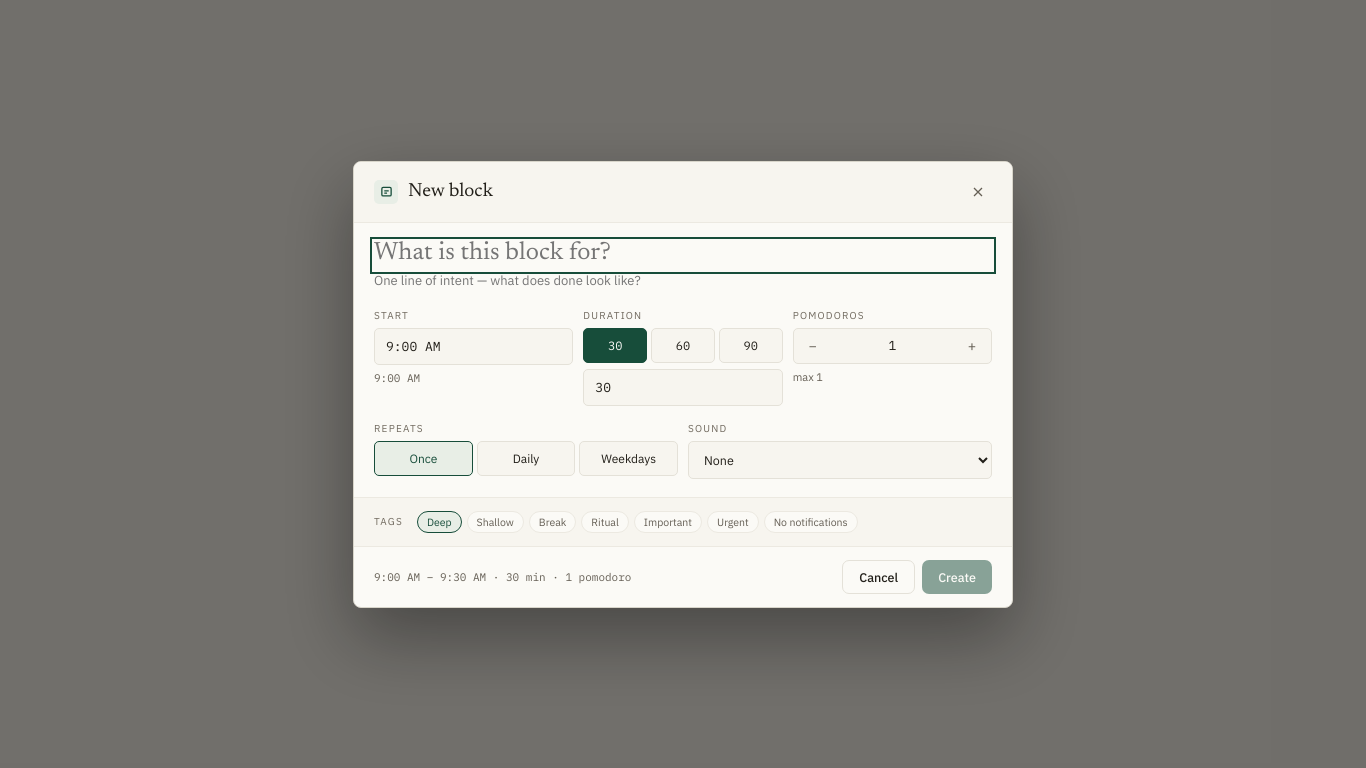
BlockComposer flows › duration validation (Phase 11 P2 field/draft/save agreement) › typing "5" on deep then switching to Shallow: the field is normalized to "30"
The width and height of the screenshot is (1366, 768).
Replace the text in the field with placeholder "90" below "Duration" with "5": (683, 387) [583,368,783,406]
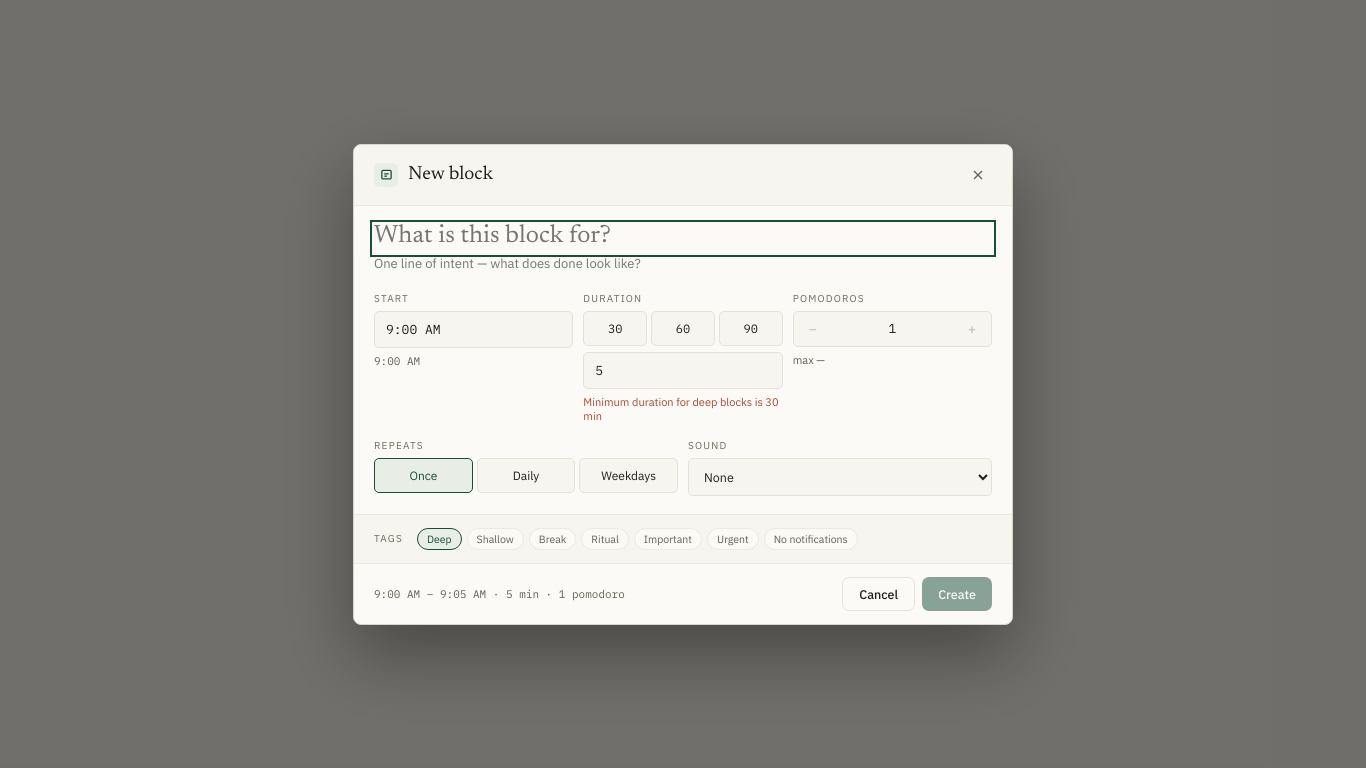
Click the button "Shallow": (495, 538) [467,528,524,550]
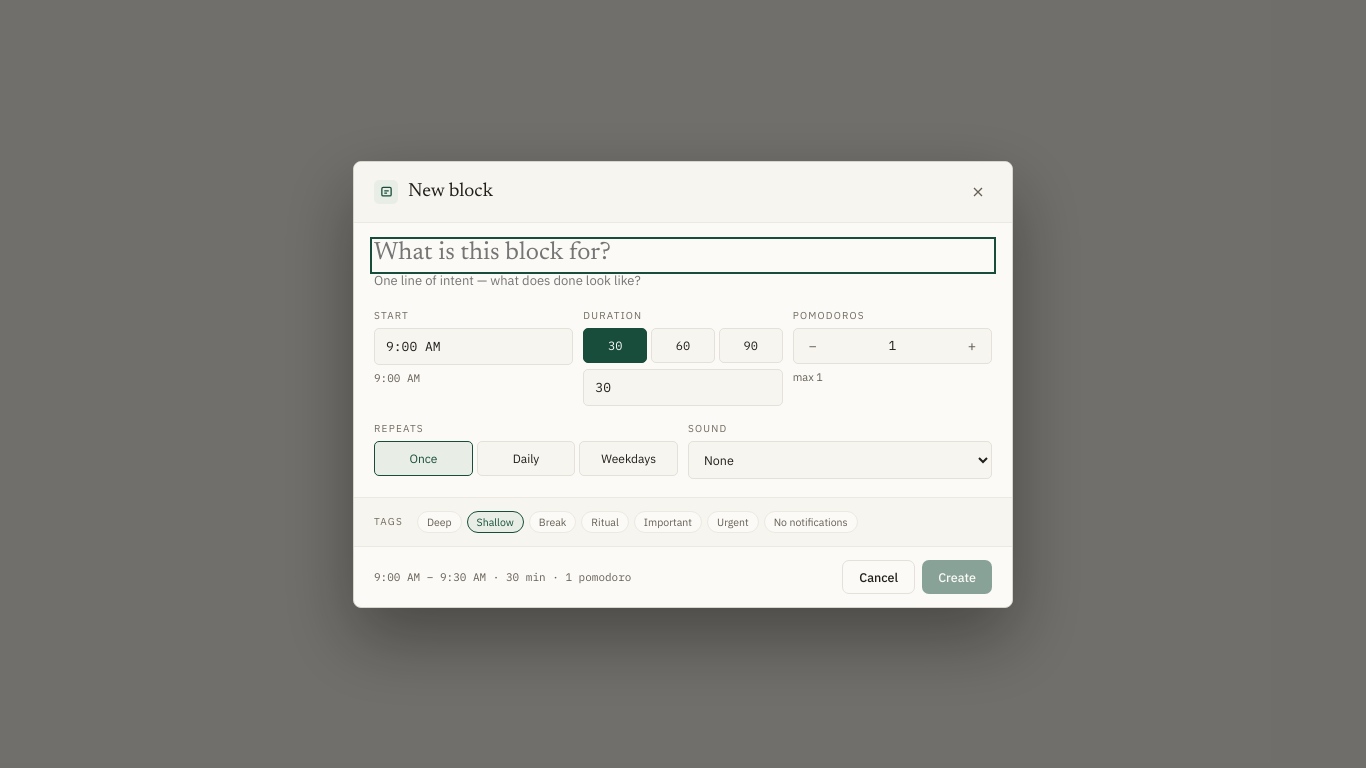
Expected: the field with placeholder "90" below "Duration" holds "30", [583,368,783,406]
Expected: the text "Minimum duration" is gone
